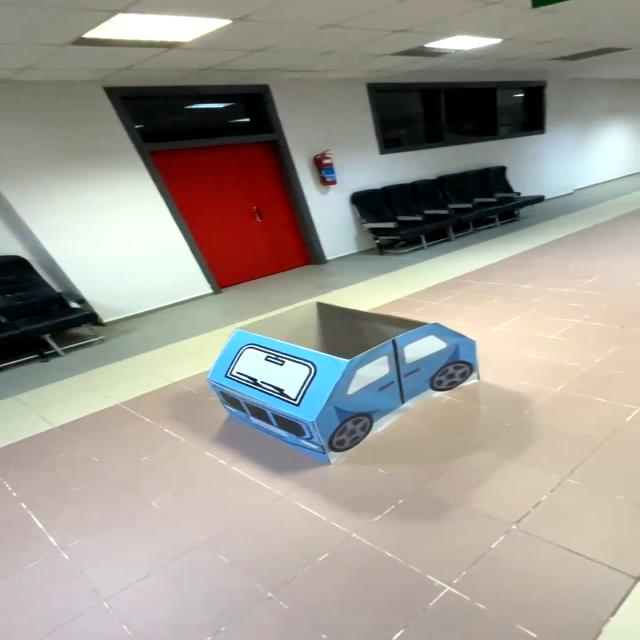blue_car: (174, 286, 499, 480)
